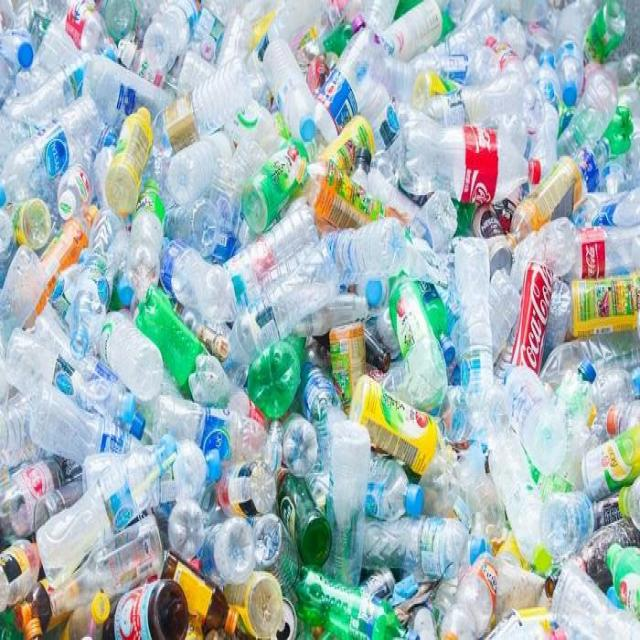heap: (6, 7, 635, 633)
metel: (512, 267, 555, 375)
plastic_bottle: (406, 116, 520, 200), (457, 244, 495, 386), (337, 423, 362, 587), (123, 108, 145, 219)
